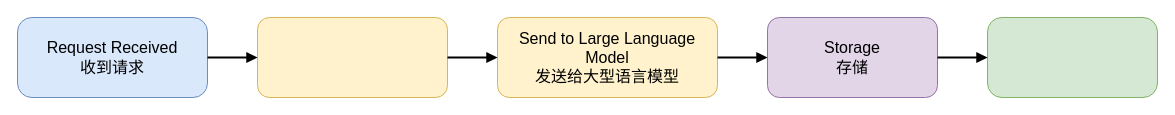
Some shapes in this 1175 by 115 pixel diagram are drawn without their labels. Here are the shapes that lost their labels. From the top down, the box of each, then its label:
(256, 16, 448, 98): Validate Request 验证请求
(986, 16, 1158, 98): Return Response 返回响应
